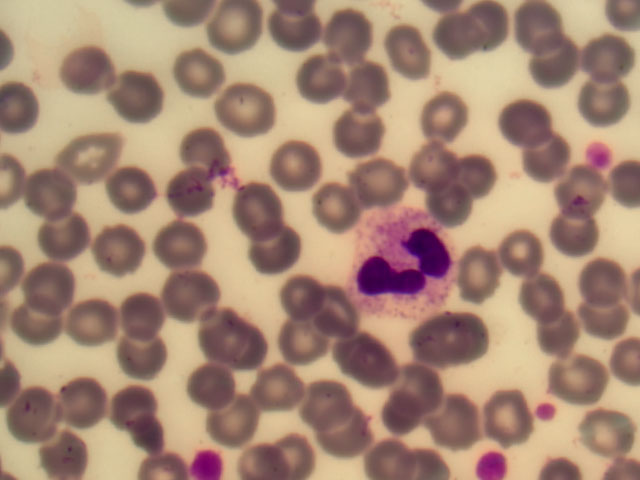Platelets: (468, 450, 515, 480), (188, 451, 225, 480), (586, 141, 614, 165), (533, 401, 553, 418)
RBC: (59, 44, 114, 95), (108, 70, 163, 121), (170, 46, 225, 97), (221, 85, 276, 136), (176, 123, 231, 174), (167, 169, 222, 220), (103, 164, 158, 215), (64, 130, 119, 181), (30, 168, 85, 219), (36, 212, 91, 263), (86, 219, 141, 270), (157, 223, 212, 274), (226, 180, 281, 231), (243, 225, 298, 276), (266, 140, 321, 191), (309, 176, 364, 227), (342, 162, 397, 213), (338, 118, 393, 169), (337, 61, 392, 112), (309, 47, 364, 98), (321, 14, 376, 65), (388, 31, 443, 82), (276, 9, 331, 60), (438, 14, 493, 65), (522, 31, 577, 82), (580, 34, 635, 85), (579, 74, 634, 125), (495, 95, 550, 146), (523, 134, 578, 185), (392, 139, 447, 190), (414, 90, 469, 141), (453, 147, 508, 198), (430, 172, 485, 223), (550, 210, 605, 261), (553, 170, 608, 221), (493, 229, 548, 280), (459, 254, 514, 305), (522, 278, 577, 329), (530, 306, 585, 357), (577, 300, 632, 351), (578, 255, 633, 306), (557, 347, 612, 398), (585, 417, 640, 468), (475, 393, 530, 444), (433, 399, 488, 450), (391, 362, 446, 413), (386, 386, 441, 437), (419, 318, 474, 369), (340, 335, 395, 386), (314, 292, 369, 343), (290, 277, 345, 328), (286, 322, 341, 373), (256, 359, 311, 410), (295, 373, 350, 424), (328, 408, 383, 459), (365, 429, 420, 480), (274, 429, 329, 480), (241, 429, 296, 480), (200, 392, 255, 443), (187, 353, 242, 404), (212, 329, 267, 380), (194, 305, 249, 356), (172, 268, 227, 319), (125, 289, 180, 340), (127, 331, 182, 382), (102, 370, 157, 421), (56, 380, 111, 431), (18, 383, 73, 434), (31, 429, 86, 480), (3, 301, 58, 352), (71, 298, 126, 349), (21, 259, 76, 310), (507, 1, 562, 51), (207, 1, 262, 50)
WBC: (342, 207, 456, 315)
